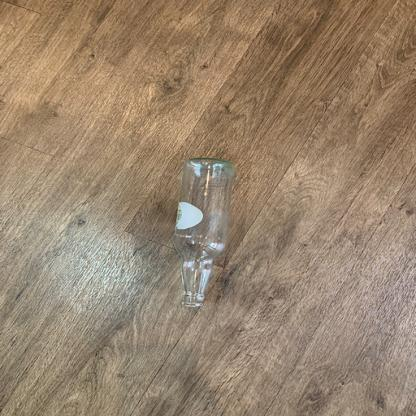trash: (170, 158, 232, 308)
